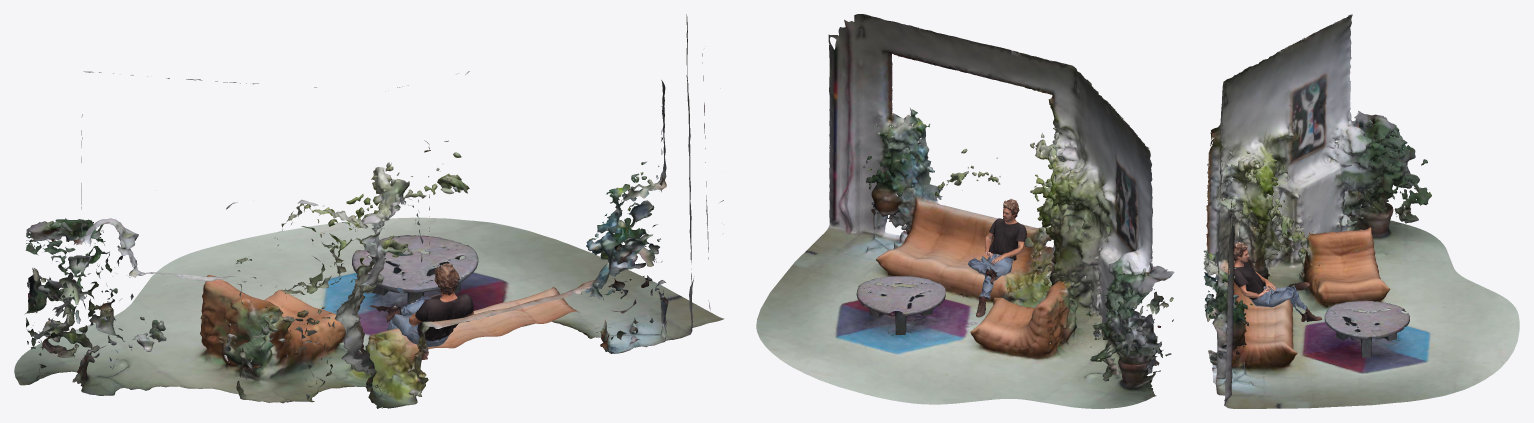
The model's file is sittingisland-newtable.simplified.glb.
3 views of the same model, side by side, from view 1: azimuth 30°, elevation 25°; view 2: azimuth 150°, elevation 25°; view 3: azimuth 270°, elevation 25° (orthographic). The views are drawn at different scales.
Parts seen in each view (by area): view 1: Default.2_2, Default.2, Default.2_1; view 2: Default.2_2, Default.2, Default.2_1; view 3: Default.2_2, Default.2, Default.2_1.
Part boxes in pixels (<box>): Default.2_2: <box>14,14,724,408</box>; Default.2: <box>352,235,478,304</box>; Default.2_1: <box>369,263,473,346</box>; Default.2_2: <box>756,14,1174,408</box>; Default.2: <box>856,276,945,334</box>; Default.2_1: <box>968,198,1026,317</box>; Default.2_2: <box>1203,14,1519,408</box>; Default.2: <box>1324,300,1409,357</box>; Default.2_1: <box>1233,242,1321,321</box>.
Bounding box in the file's own units: 114 × 60.47 × 78.3.
Materials: 3 (3 with a texture image).
